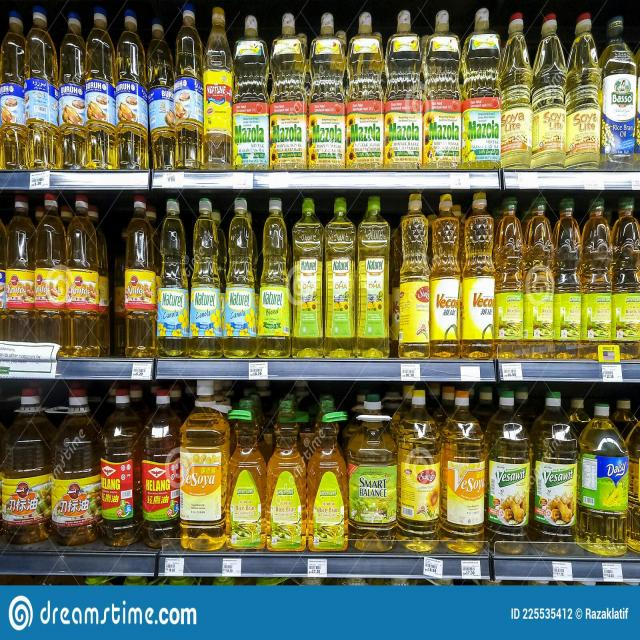Oil: (233, 26, 501, 171), (0, 8, 204, 172), (488, 200, 640, 362), (156, 198, 298, 360), (499, 14, 622, 172), (232, 397, 349, 551), (0, 194, 109, 359), (394, 196, 496, 362), (94, 385, 192, 553), (0, 384, 101, 547), (291, 201, 391, 360), (488, 396, 582, 561), (573, 397, 636, 560), (346, 389, 400, 553), (179, 385, 230, 554), (438, 394, 489, 557), (397, 389, 444, 554), (118, 197, 160, 362), (599, 13, 640, 172), (200, 5, 237, 169)
